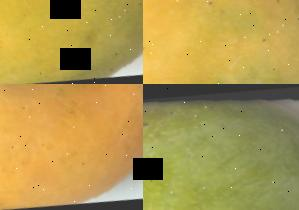PartiallyRipe: (143, 0, 299, 84), (0, 0, 143, 84)
Ripe: (0, 84, 143, 210)
Unripe: (143, 84, 299, 210)
